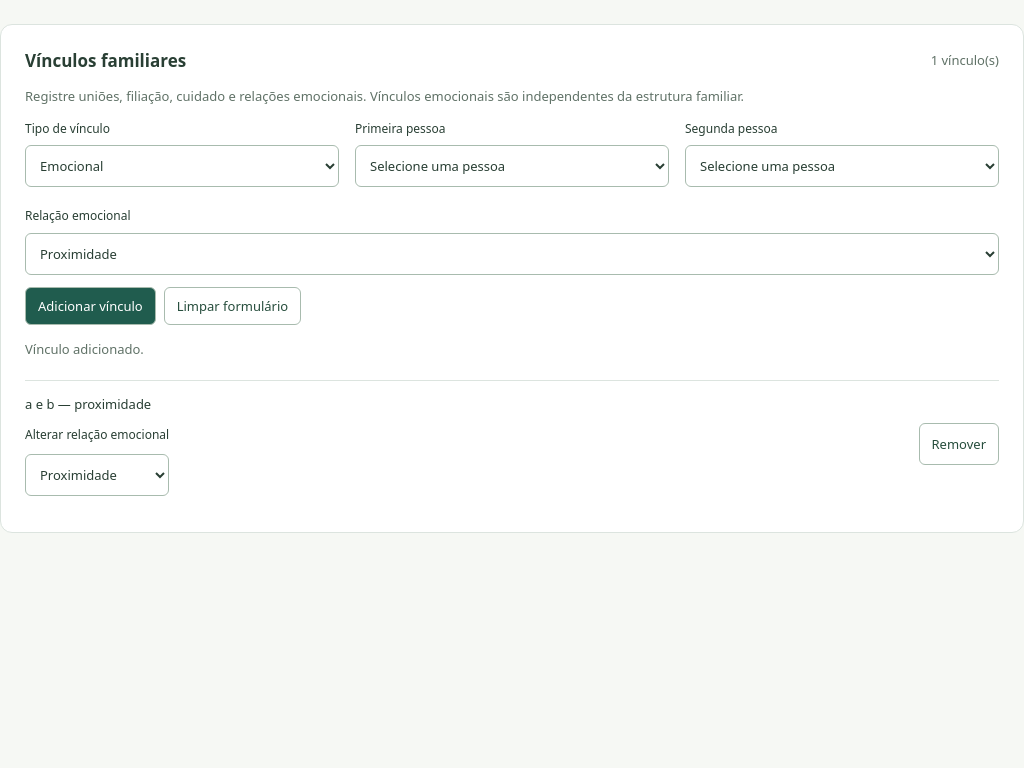
Test: VinculosComponent › deve criar vínculo emocional e atualizar a relação pela lista preservando o identificador
The image size is (1024, 768).
Select "Conflito" in the dropdown labelled "Alterar relação emocional" at (97,475), box [25,454,169,496]
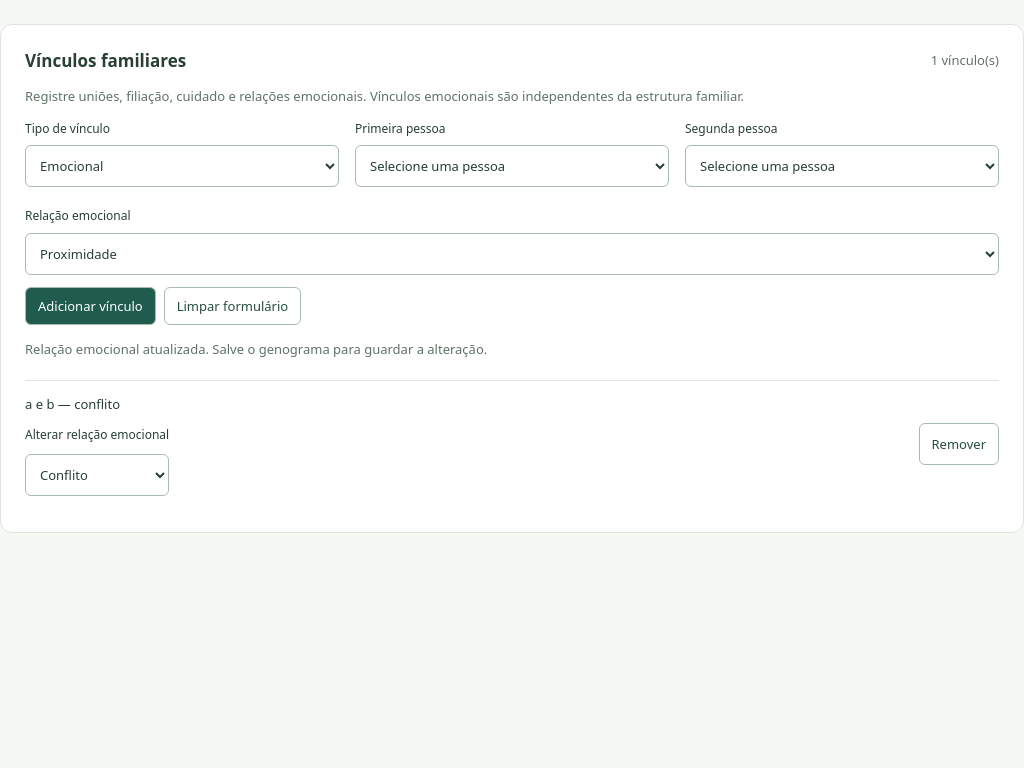
Check: the text "a e b — conflito" is shown, box [25,395,120,413]
